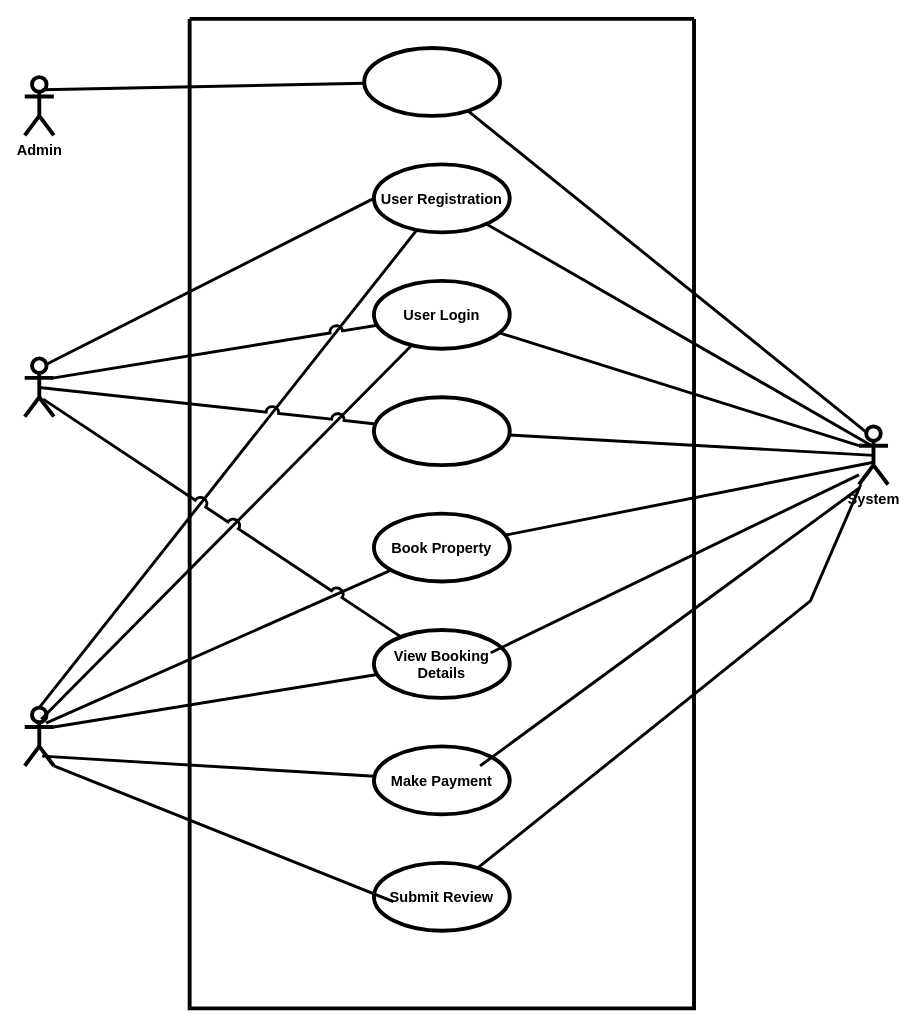
Image size: 916x1026. Some labels were removed from this diagram. The centre of each missing label's shape, as x and y in pixels:
"Admin Login" goes at point 431,81.
"Create Property Listing" goes at point 441,431.
"Guest" goes at point 38,736.
"Host" goes at point 38,387.
